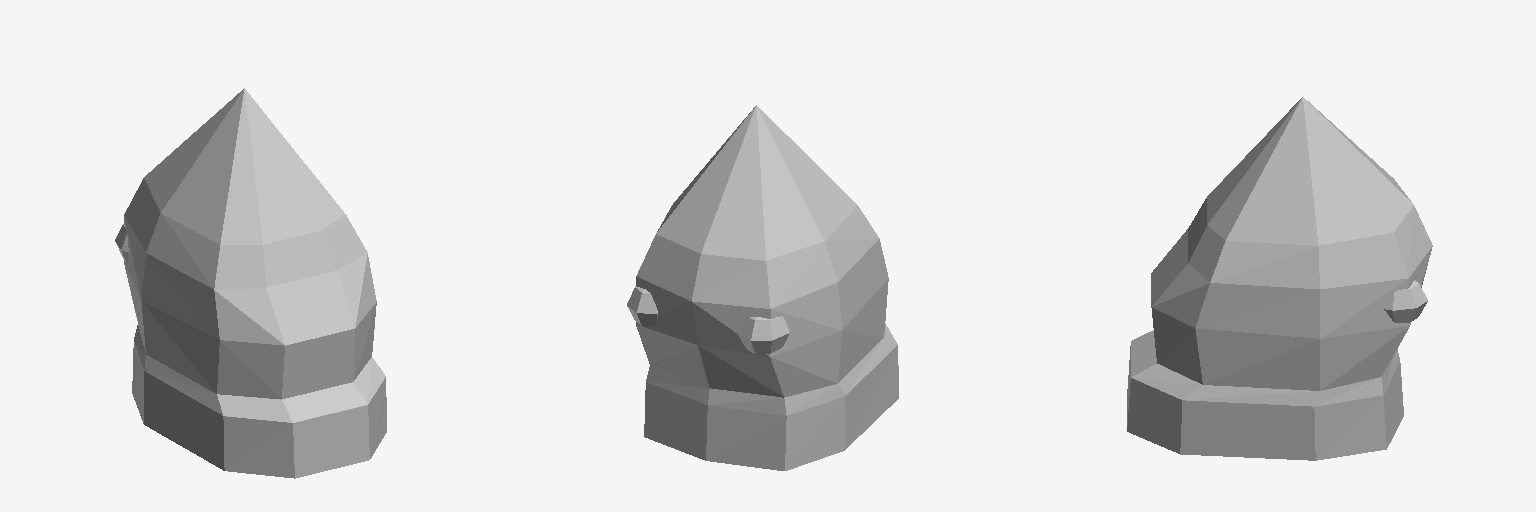
File: donk2.obj
The picture shows the model from 3 angles: view 1: azimuth 30°, elevation 25°; view 2: azimuth 150°, elevation 25°; view 3: azimuth 270°, elevation 25°; orthographic projection.
Parts seen in each view (by area): view 1: hat, face, body; view 2: hat, face, body, eyes; view 3: hat, face, body, eyes.
Part boxes in pixels (x1,y1,x2,y2): hat: (124,88,366,289); face: (124,215,376,399); body: (132,325,386,478); hat: (637,105,879,308); face: (636,239,888,397); body: (644,323,898,470); eyes: (627,286,790,353); hat: (1188,97,1432,288); face: (1151,229,1432,390); body: (1127,330,1403,460); eyes: (1384,280,1427,322).
Bounding box in the file's own units: 1.37 × 2.21 × 1.92.